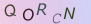C: (52, 12, 63, 24)
N: (62, 6, 77, 20)
O: (22, 8, 35, 21)
Q: (4, 3, 17, 17)
R: (36, 2, 48, 16)
